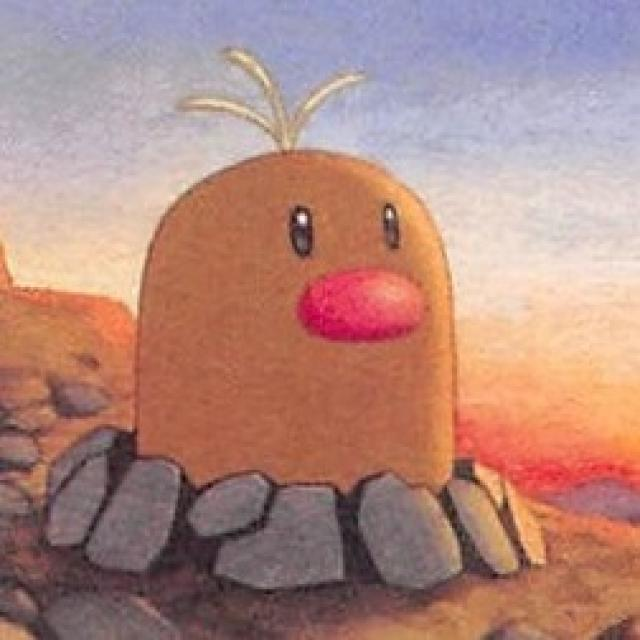Diglett: (138, 112, 457, 516)
